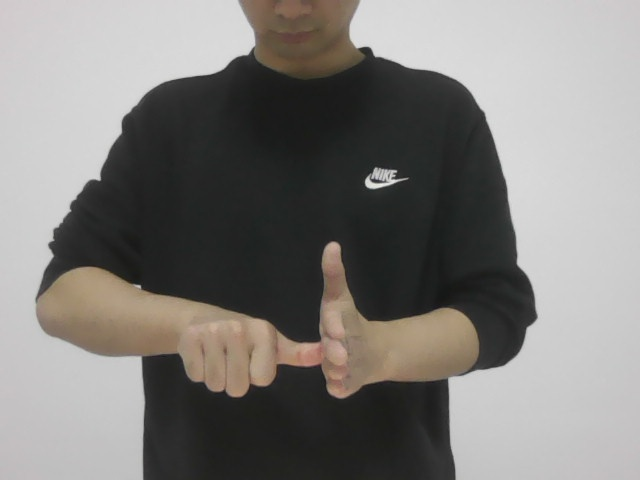time: (178, 229, 376, 406)
